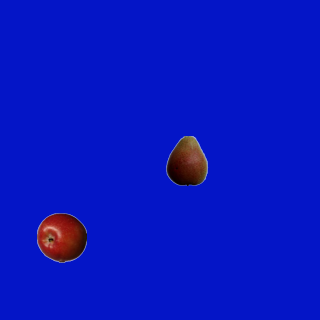Apple Braeburn: (36, 212, 86, 262)
Pear Forelle: (161, 135, 211, 185)
